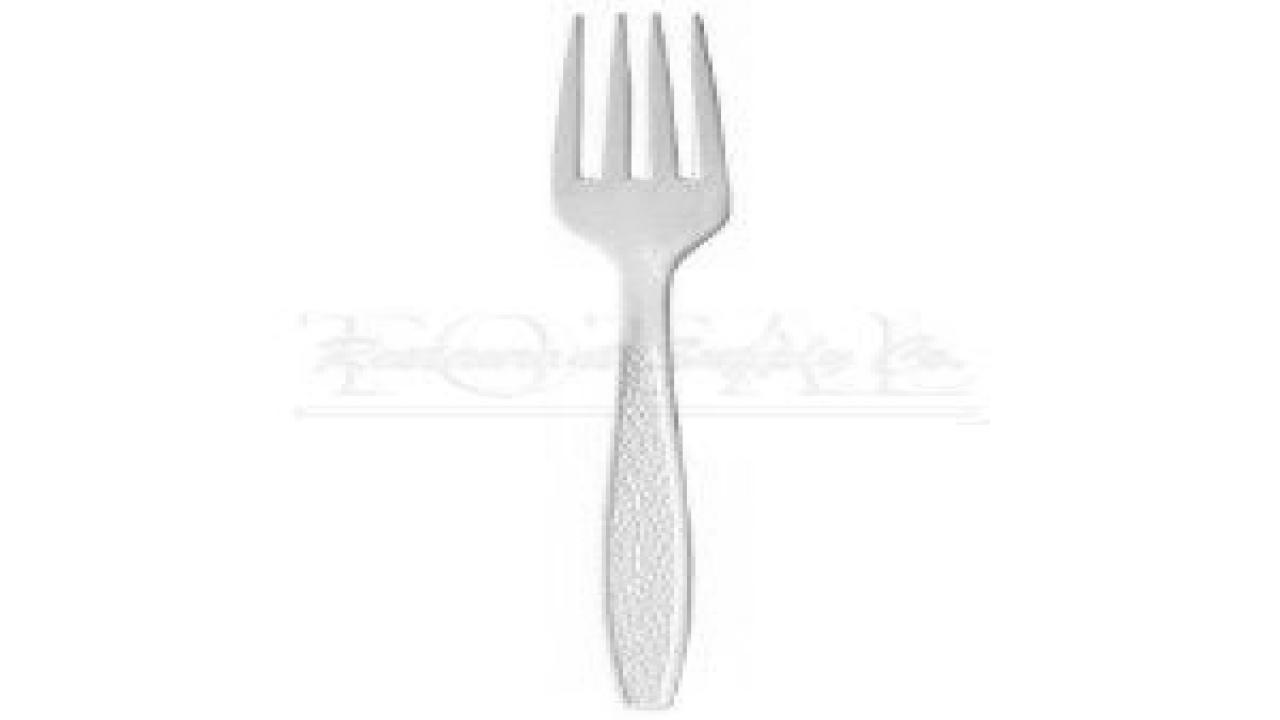fork: (546, 8, 730, 710)
